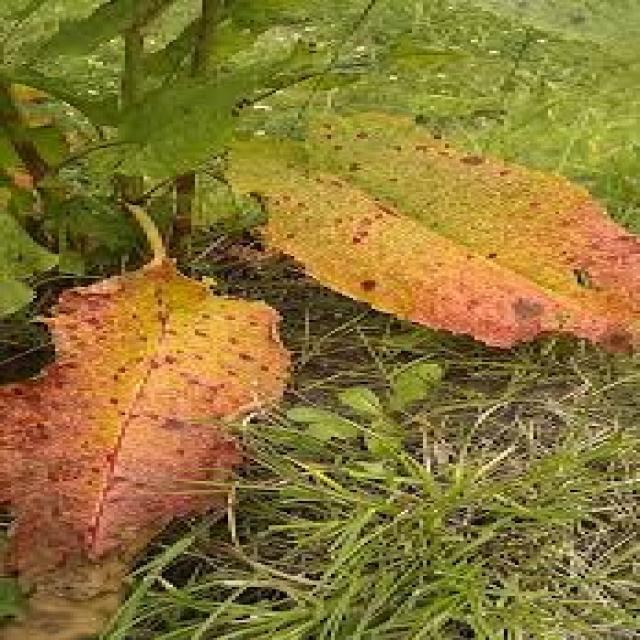organic waste: (37, 0, 640, 629)
